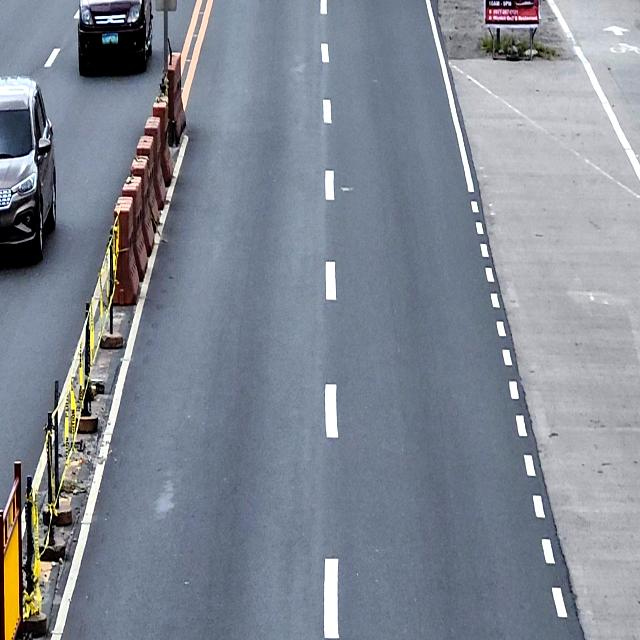Car: (0, 74, 56, 260), (77, 0, 152, 75)
License-Plate: (101, 31, 119, 46)
